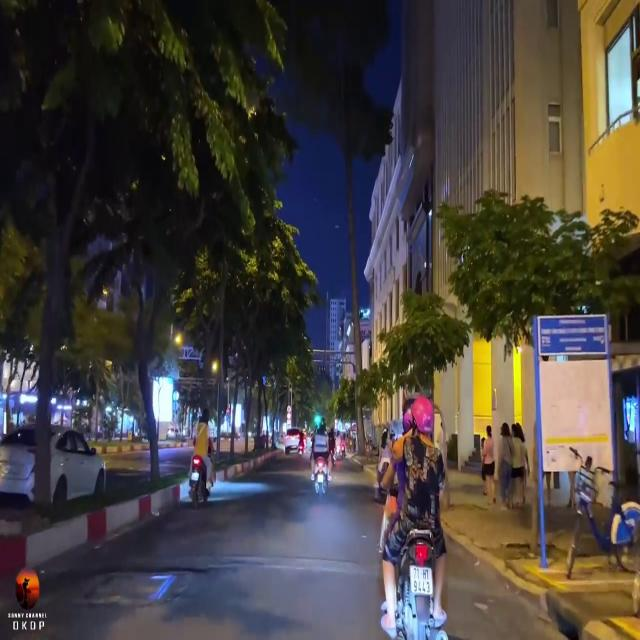bien_trang: (408, 562, 435, 596)
